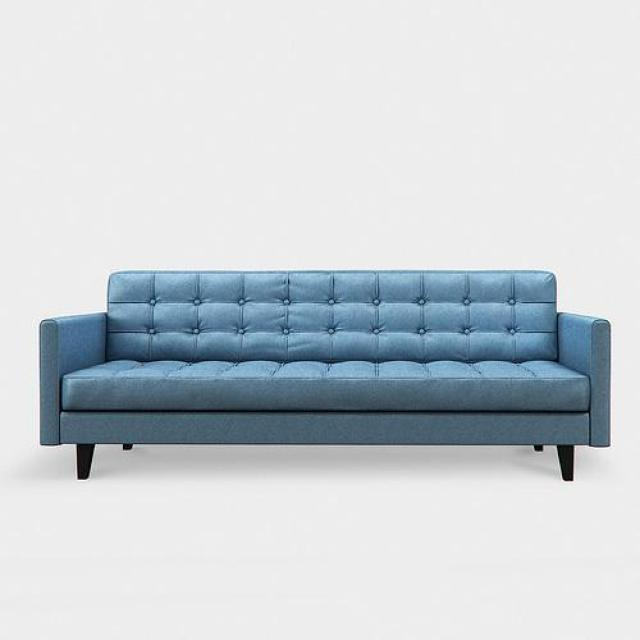sofa: (40, 270, 613, 481)
